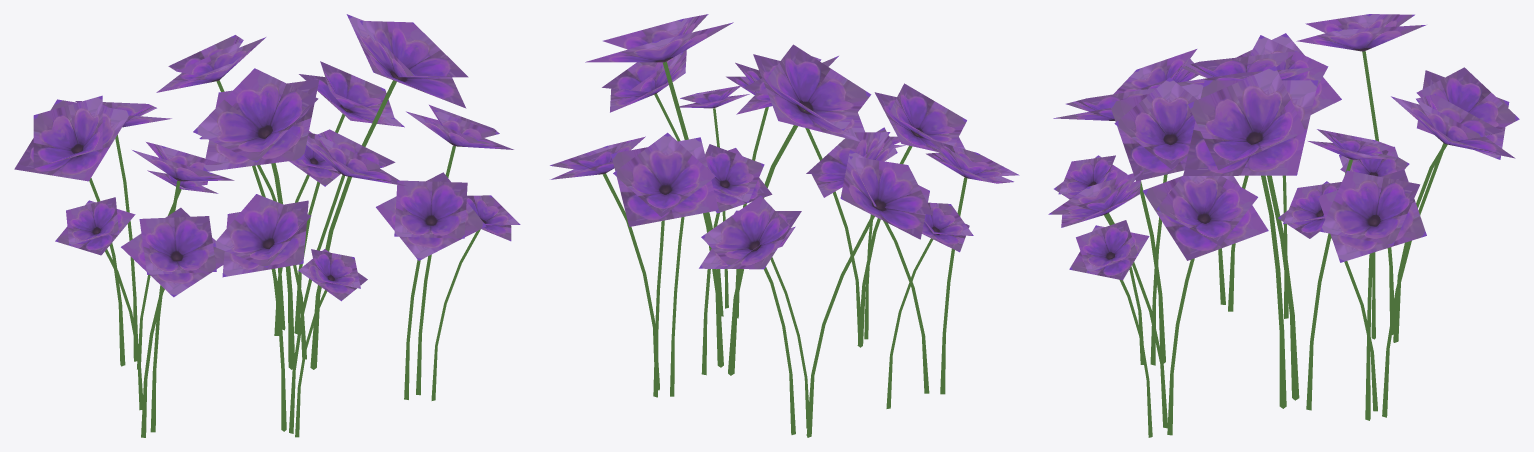
File: SM_Flower_02_03.fbx
3 views of the same model, side by side, from view 1: azimuth 30°, elevation 25°; view 2: azimuth 150°, elevation 25°; view 3: azimuth 270°, elevation 25° (orthographic). The views are drawn at different scales.
Parts seen in each view (by area): view 1: SM_Flower_02_03_LOD0; view 2: SM_Flower_02_03_LOD0; view 3: SM_Flower_02_03_LOD0.
Part boxes in pixels (x1,y1,x2,y2): SM_Flower_02_03_LOD0: (14, 14, 520, 437); SM_Flower_02_03_LOD0: (550, 14, 1019, 437); SM_Flower_02_03_LOD0: (1048, 14, 1519, 437).
Size of what is drawn, in the model's own units: 108 by 86.14 by 101.
